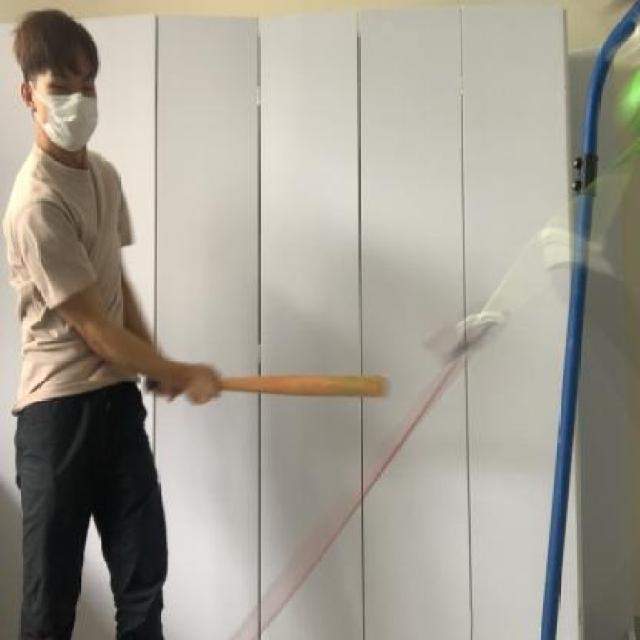baseball: (607, 50, 640, 127)
